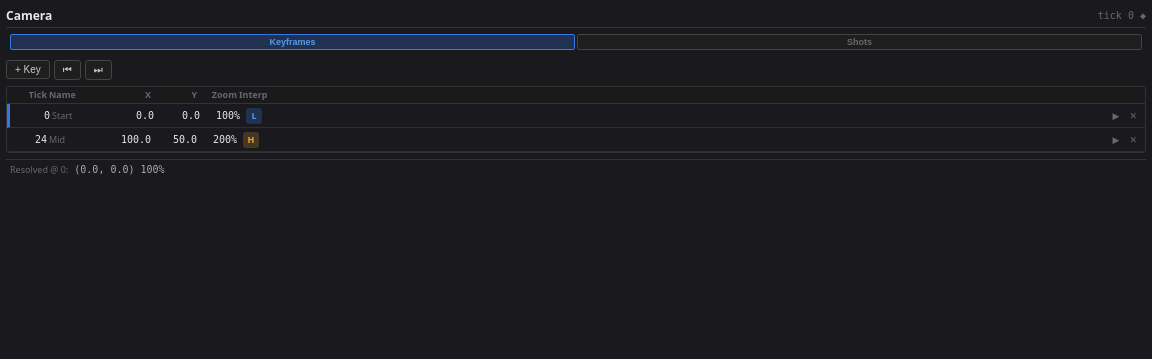
it: CameraKeyframePanel › clicking a keyframe row selects it and shows editor
The width and height of the screenshot is (1152, 359).
Click on the row for KF_A (tick 0, name "Start")
Click the element with class "camkf-row" showing "0 Start 0.0 0.0 100% L ▶ ✕" at {"x": 576, "y": 116}, box [7,104,1145,128]
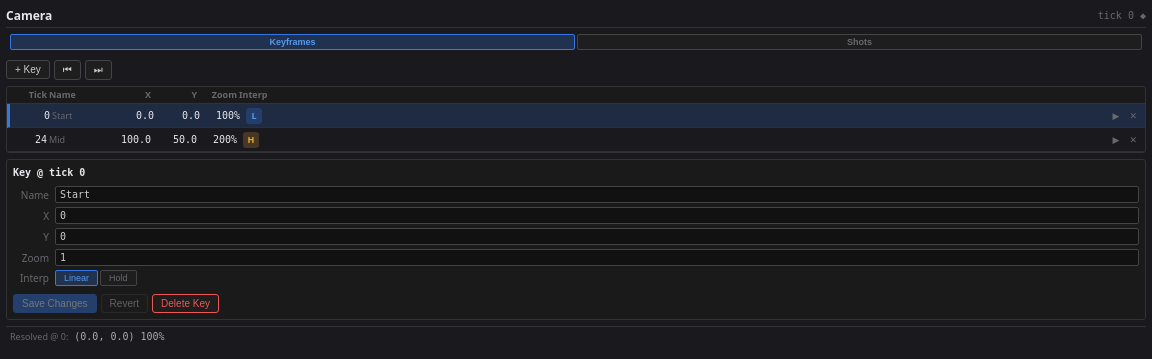
expect the text "Key @ tick 0" is shown: met, box [13,167,85,178]
